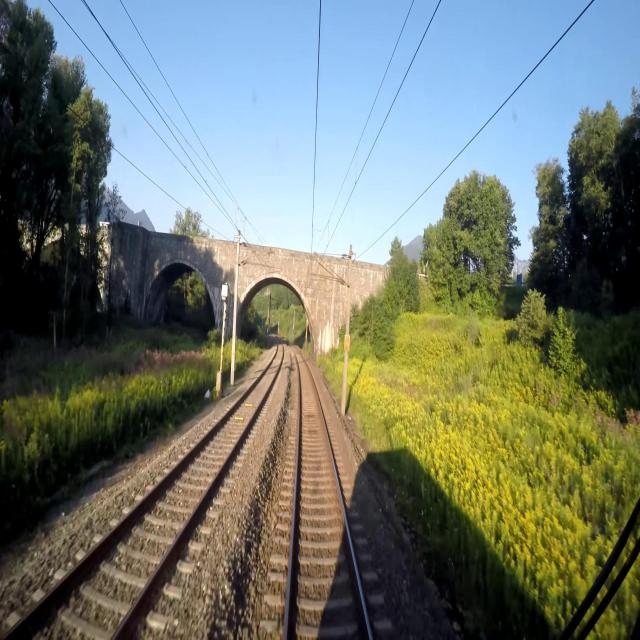rail-track: (6, 341, 281, 639), (288, 350, 368, 639)
